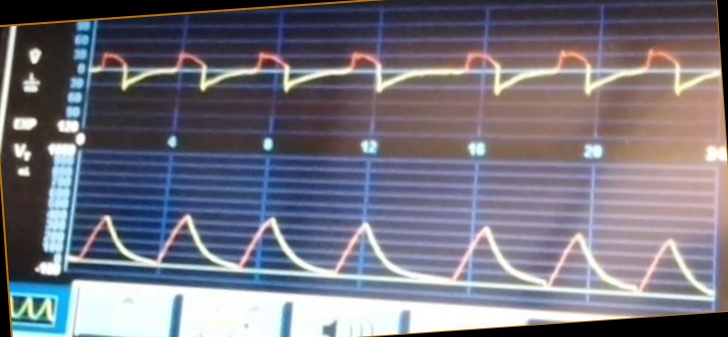Normal Flow: (94, 33, 718, 127)
Normal Volume: (75, 200, 714, 296)
